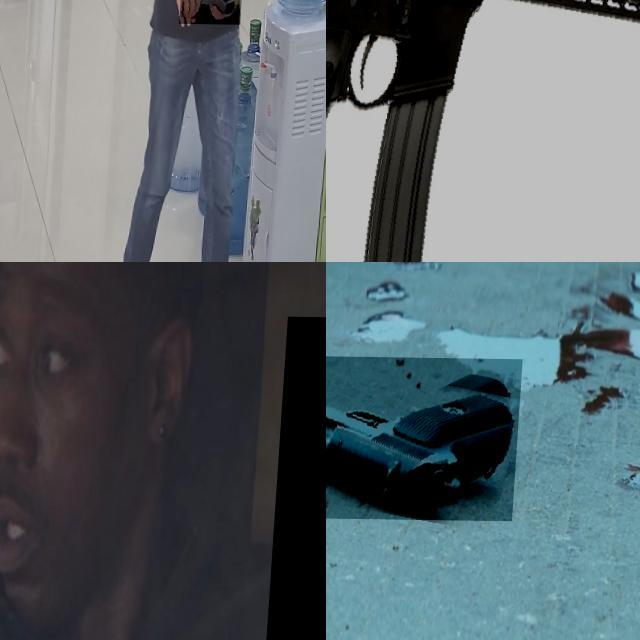gun-knife-thesis - v11 Yolov5 augmented: (326, 0, 640, 262), (326, 353, 526, 519), (184, 0, 247, 28)
